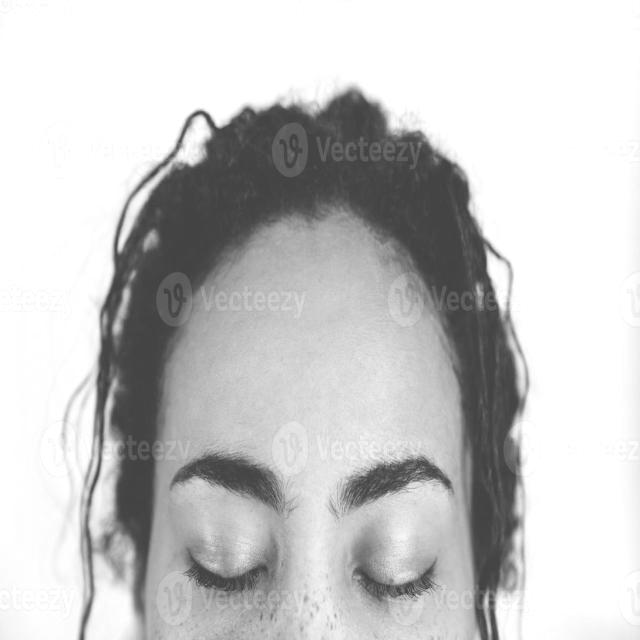real: (158, 438, 466, 630)
